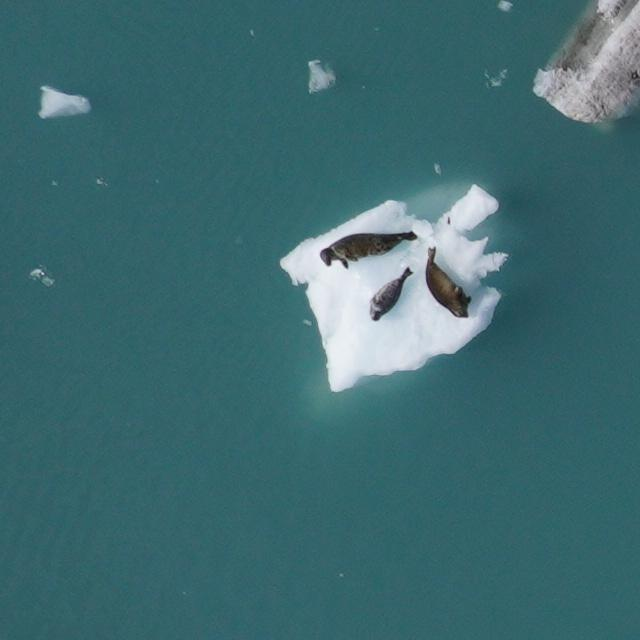seal: (323, 231, 417, 267), (424, 247, 471, 316), (369, 267, 412, 320)
